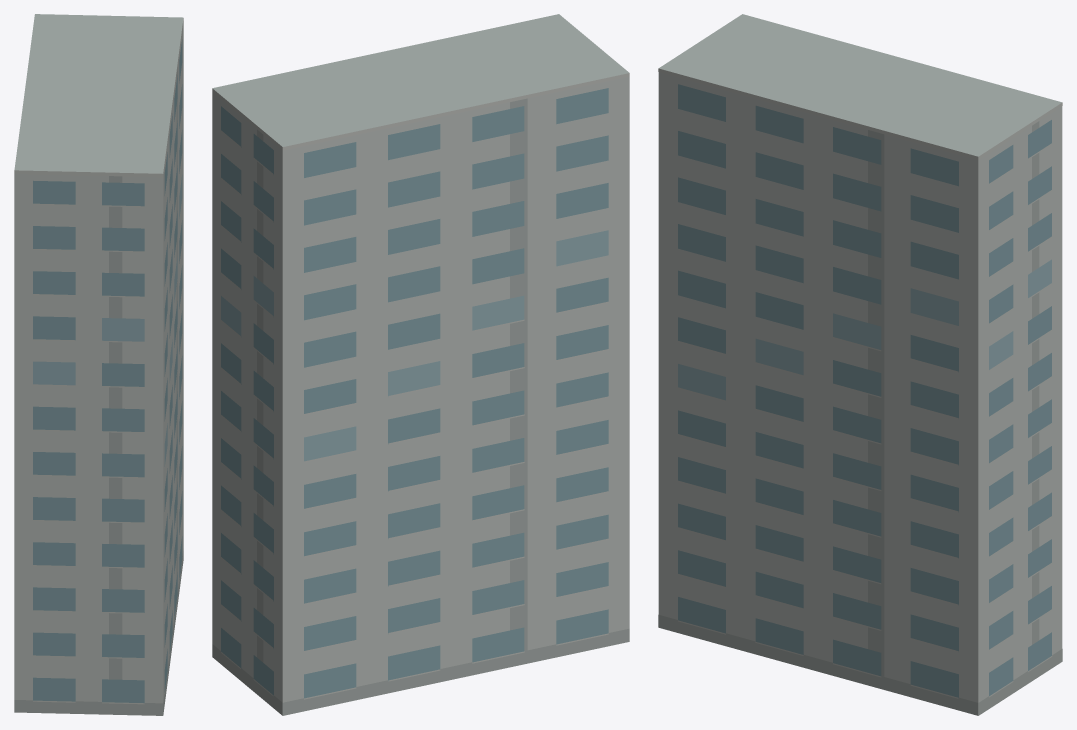
Rendered from residential-9c2b626c-28fc-47a0-8929-c7b2037f3457.glb.
3 renders of one model, left to right at view 1: azimuth 30°, elevation 25°; view 2: azimuth 150°, elevation 25°; view 3: azimuth 270°, elevation 25°, orthographic. The views are drawn at different scales.
Visible parts, largest first — view 1: residential-9c2b626c-28fc-47a0-8929-c7b2037f3457.tmp; view 2: residential-9c2b626c-28fc-47a0-8929-c7b2037f3457.tmp; view 3: residential-9c2b626c-28fc-47a0-8929-c7b2037f3457.tmp.
Boxes of the visible parts, x1,y1,x2,y2 form: residential-9c2b626c-28fc-47a0-8929-c7b2037f3457.tmp: (14,14,183,715); residential-9c2b626c-28fc-47a0-8929-c7b2037f3457.tmp: (212,14,629,715); residential-9c2b626c-28fc-47a0-8929-c7b2037f3457.tmp: (658,14,1062,715).
Bounding box in the file's own units: 20.81 × 38 × 24.89.
